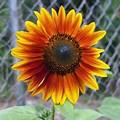sunflowers: (14, 5, 112, 105)
